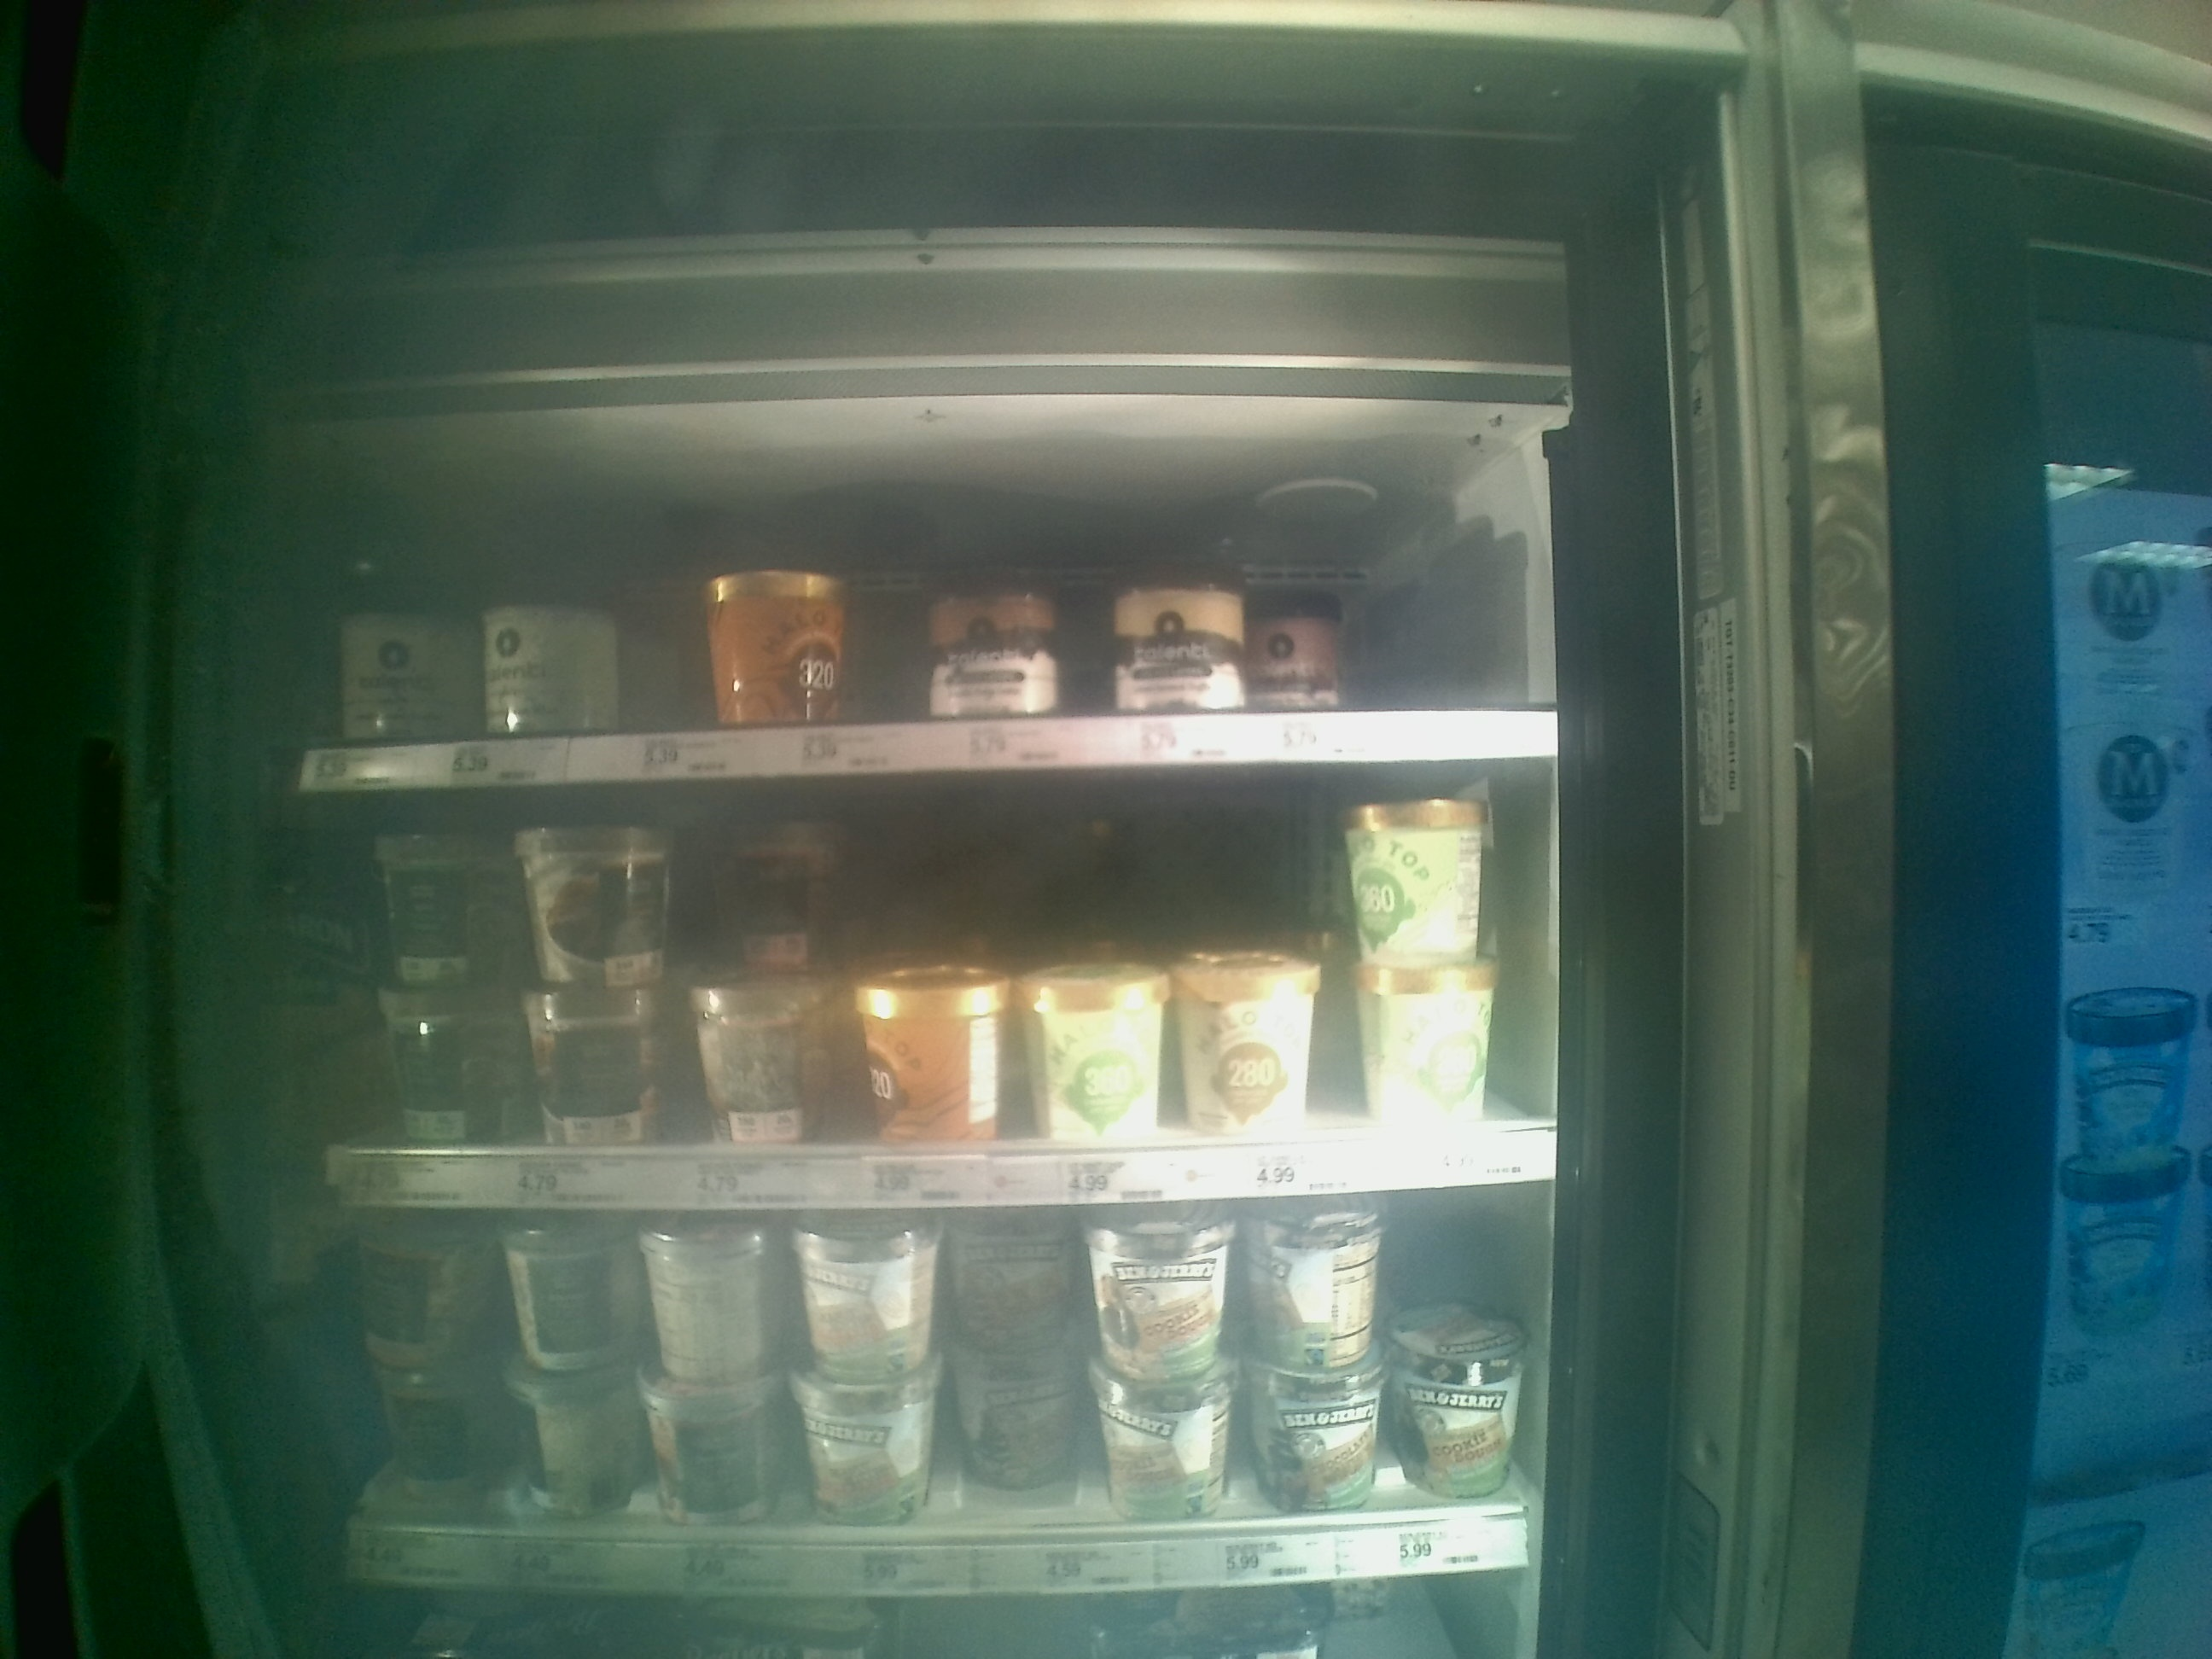ice-cream-shelf: (317, 791, 1564, 1201)
